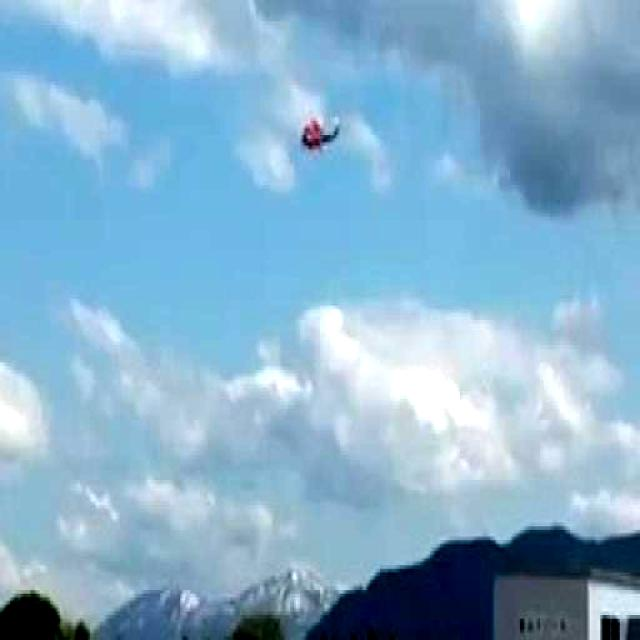drone: (295, 104, 345, 164)
